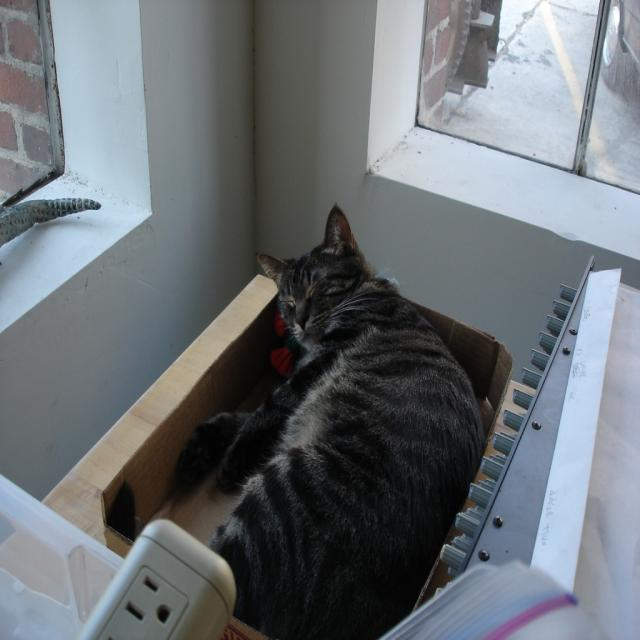Cat: (170, 202, 486, 638)
